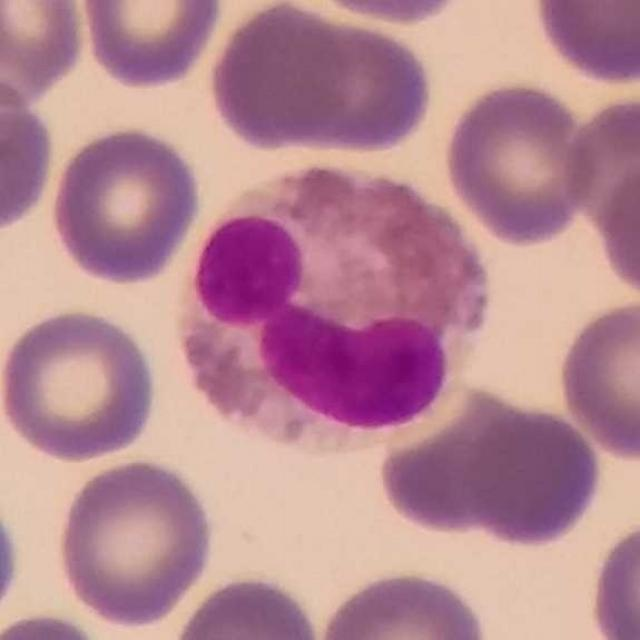eosino: (171, 152, 498, 457)
